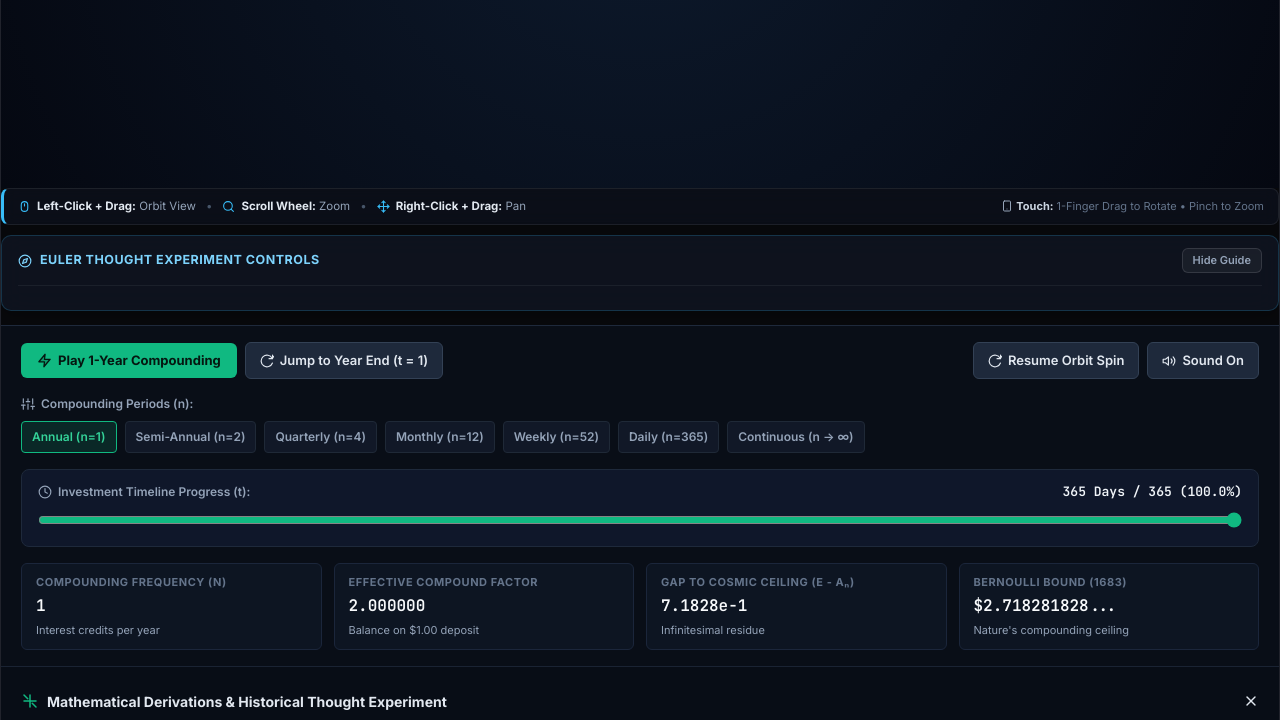
Test case: EulersNumber3DLab › supports toggling timeline playback and sound mute
The width and height of the screenshot is (1280, 720).
(page scrolled)
Click the button with test id "btn-play-timeline" at (129, 361), box [21,343,237,378]
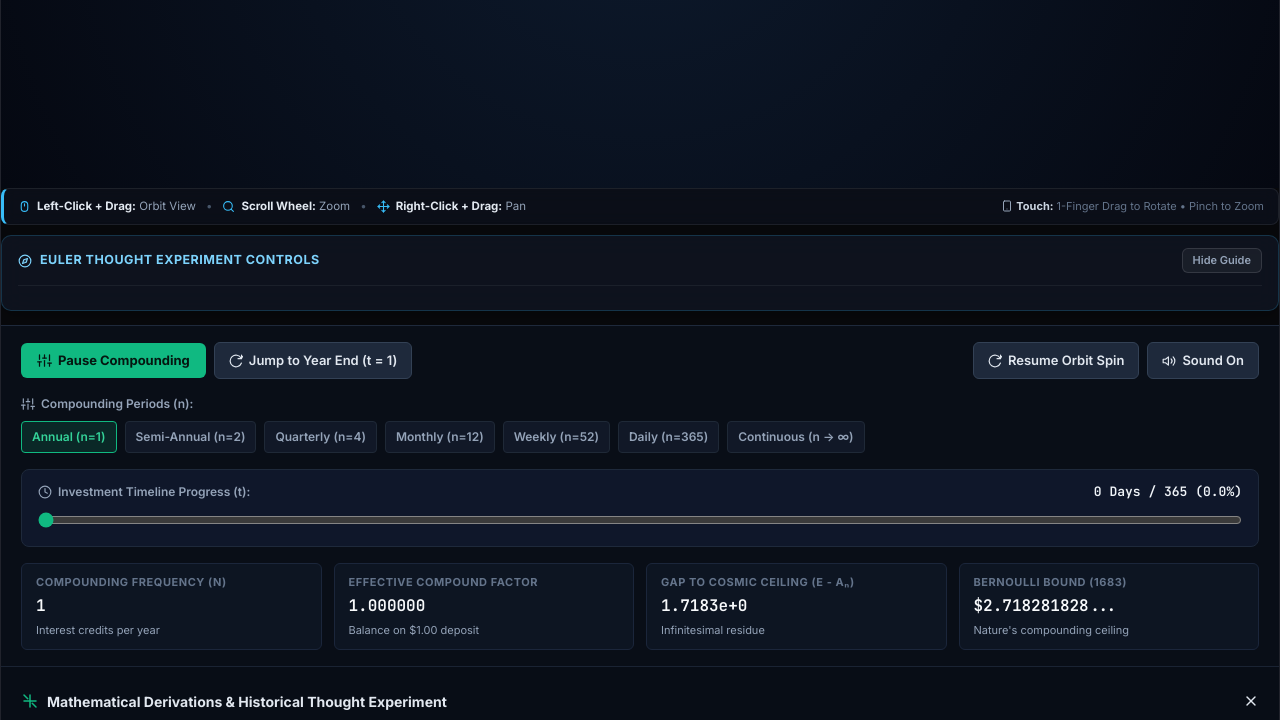
Result: the text "Pause Compounding" is shown at [58,351,190,370]
Click the button with aria-label "Toggle Audio" at (1203, 361), box [1147,342,1259,379]
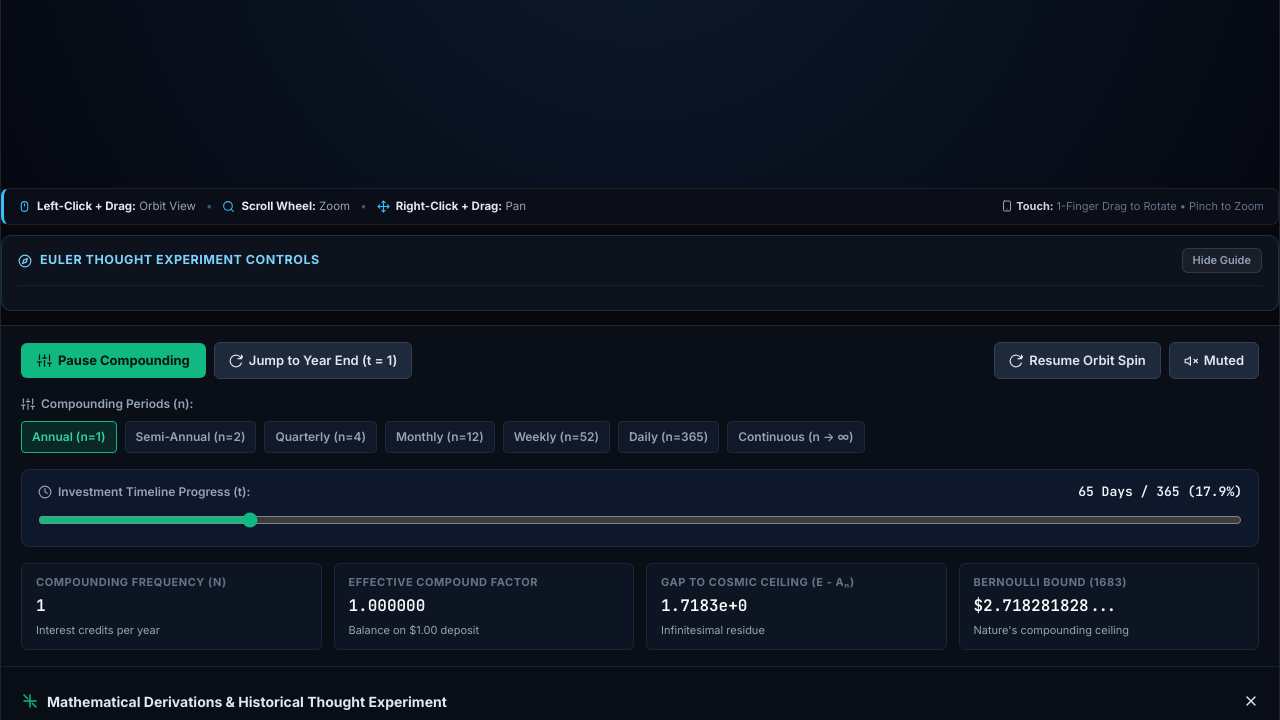
Result: the text "Muted" is shown at [1204,351,1244,370]
